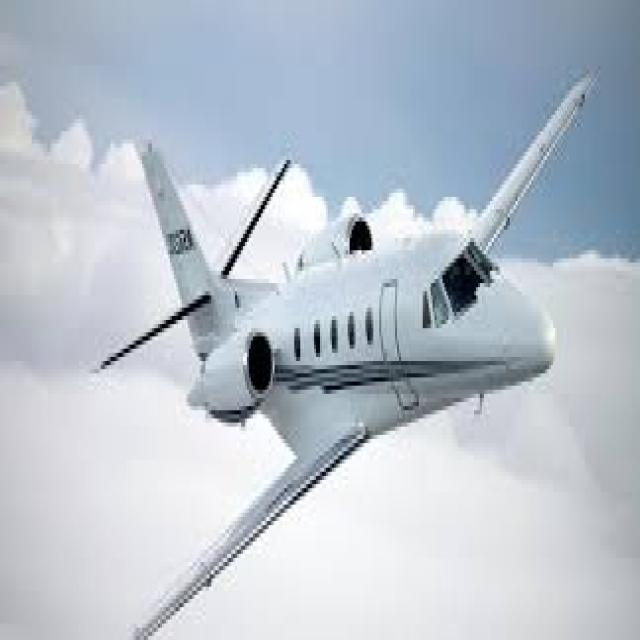jet: (68, 74, 610, 640)
